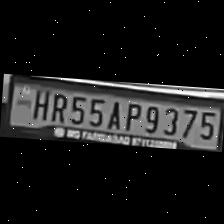3: (159, 103, 178, 135)
5: (194, 105, 216, 140), (65, 92, 85, 123), (84, 94, 104, 125)
7: (177, 104, 196, 138)
9: (140, 101, 160, 132)
A: (104, 96, 122, 128)
H: (27, 86, 48, 119)
P: (121, 99, 141, 130)
R: (46, 88, 67, 122)
